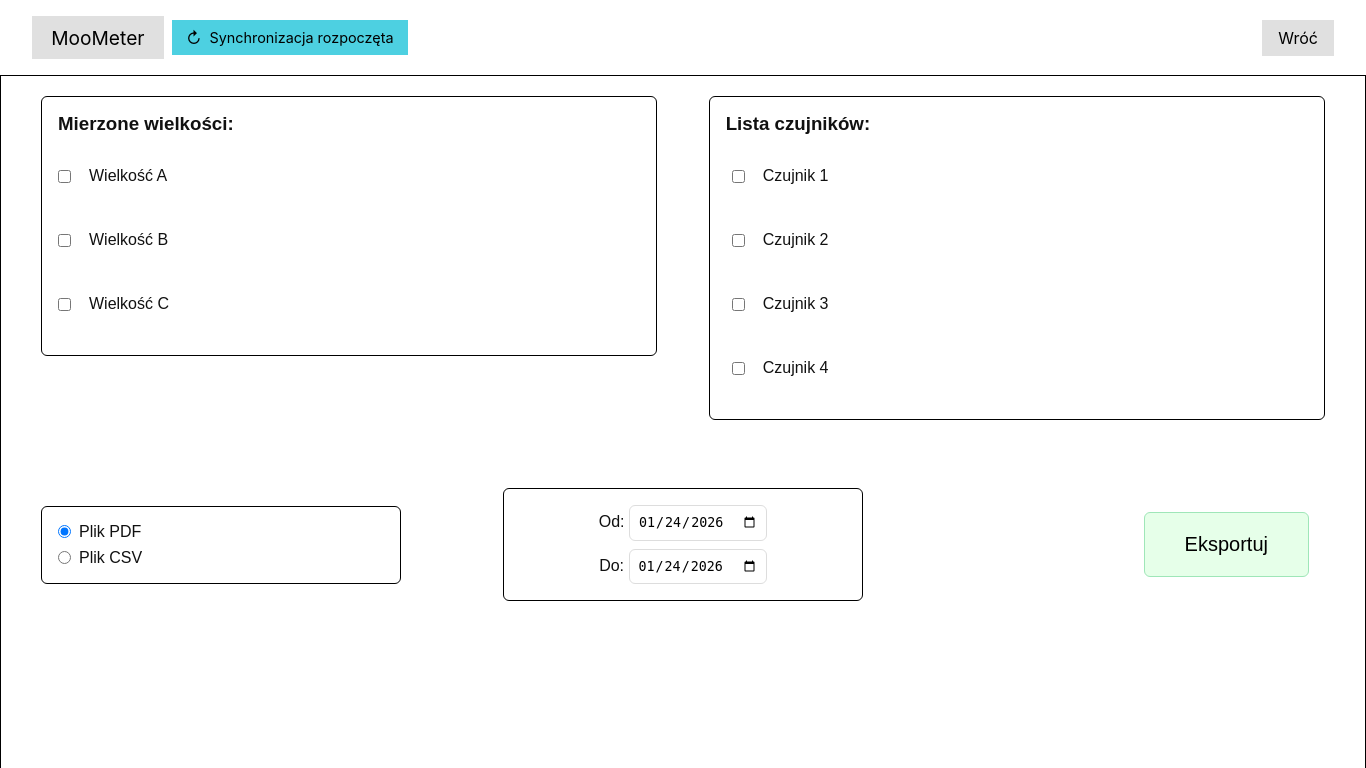
Scenario: ExportPanel – UI and validation display › powinien wykonać poprawny eksport przy prawidłowych danych
The width and height of the screenshot is (1366, 768).
wybór parametrów
Click the checkbox labelled "Wielkość A": click(64, 176) x1=58 y1=170 x2=71 y2=183
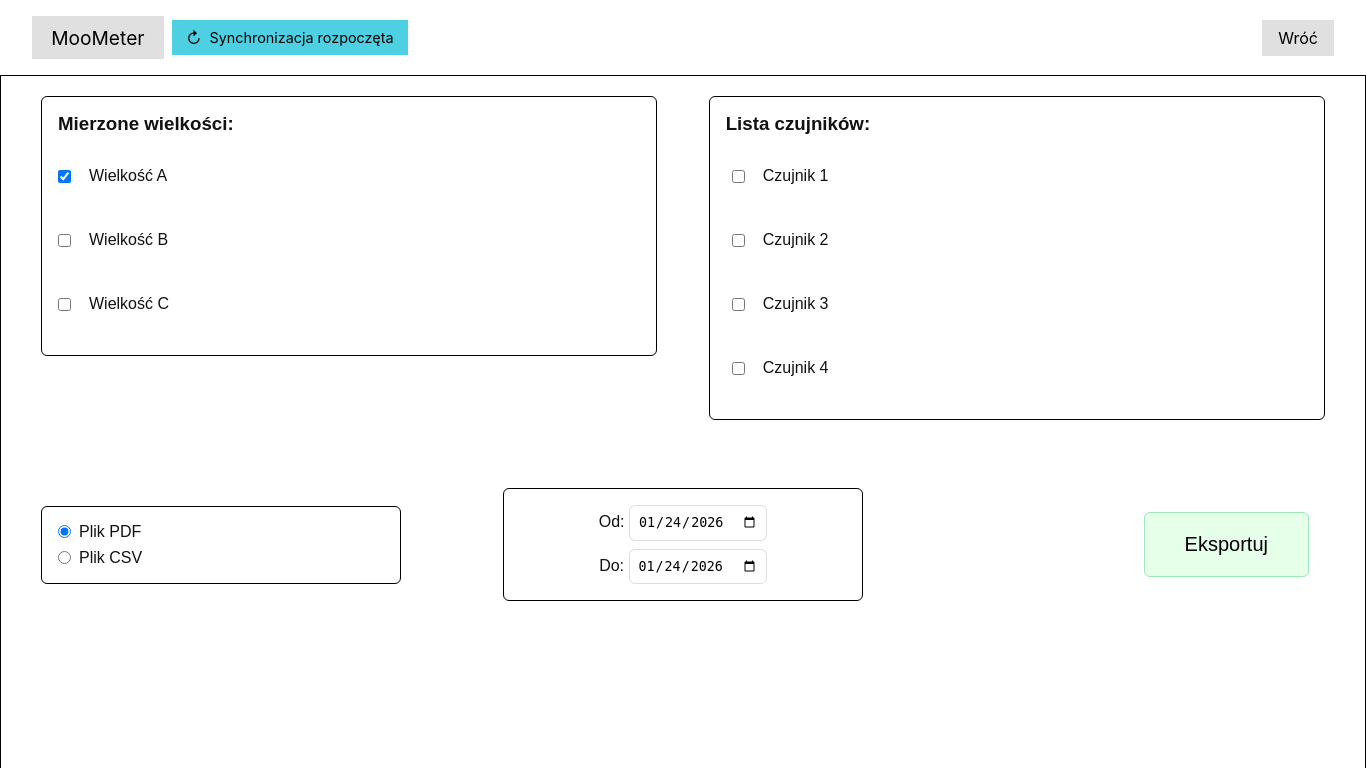
Click the checkbox labelled "Czujnik 1": click(738, 176) x1=732 y1=170 x2=745 y2=183
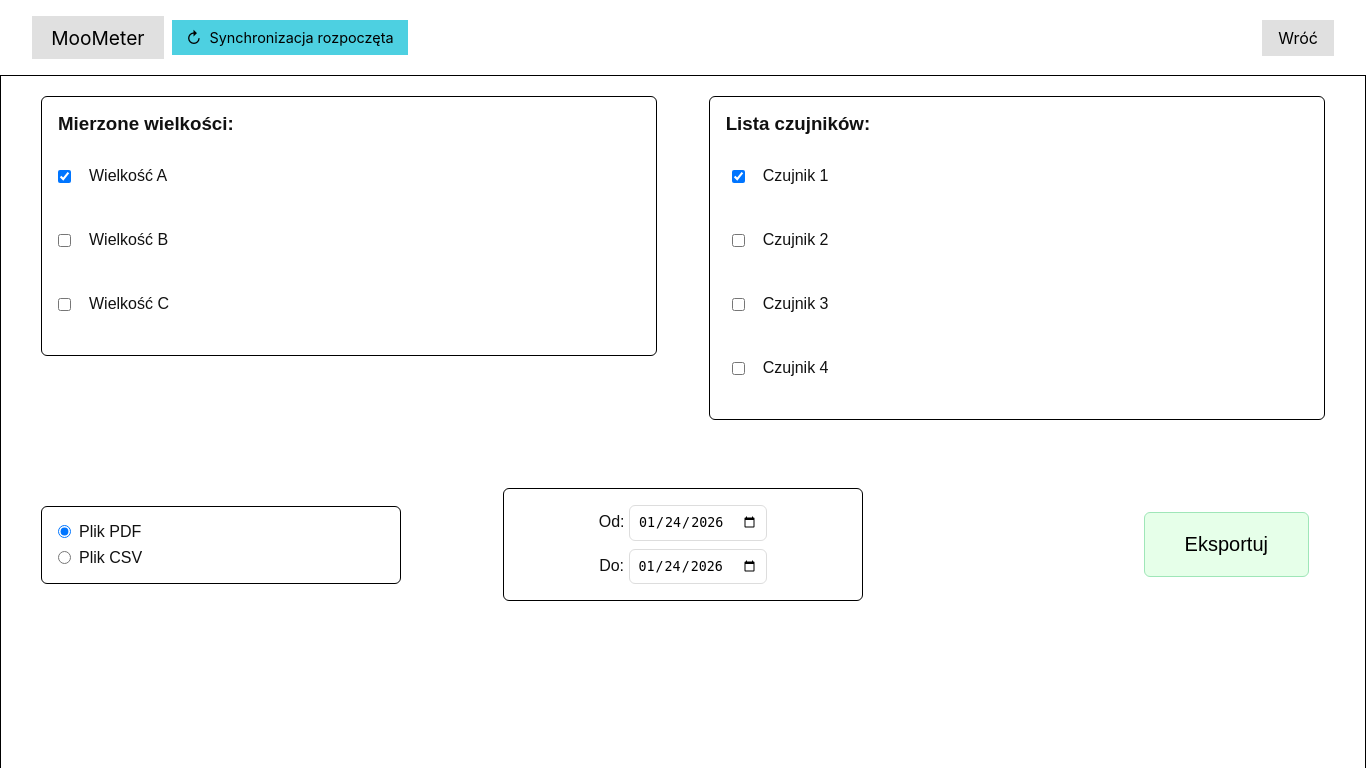
Click the button "Eksportuj": click(1226, 544) x1=1144 y1=512 x2=1309 y2=577
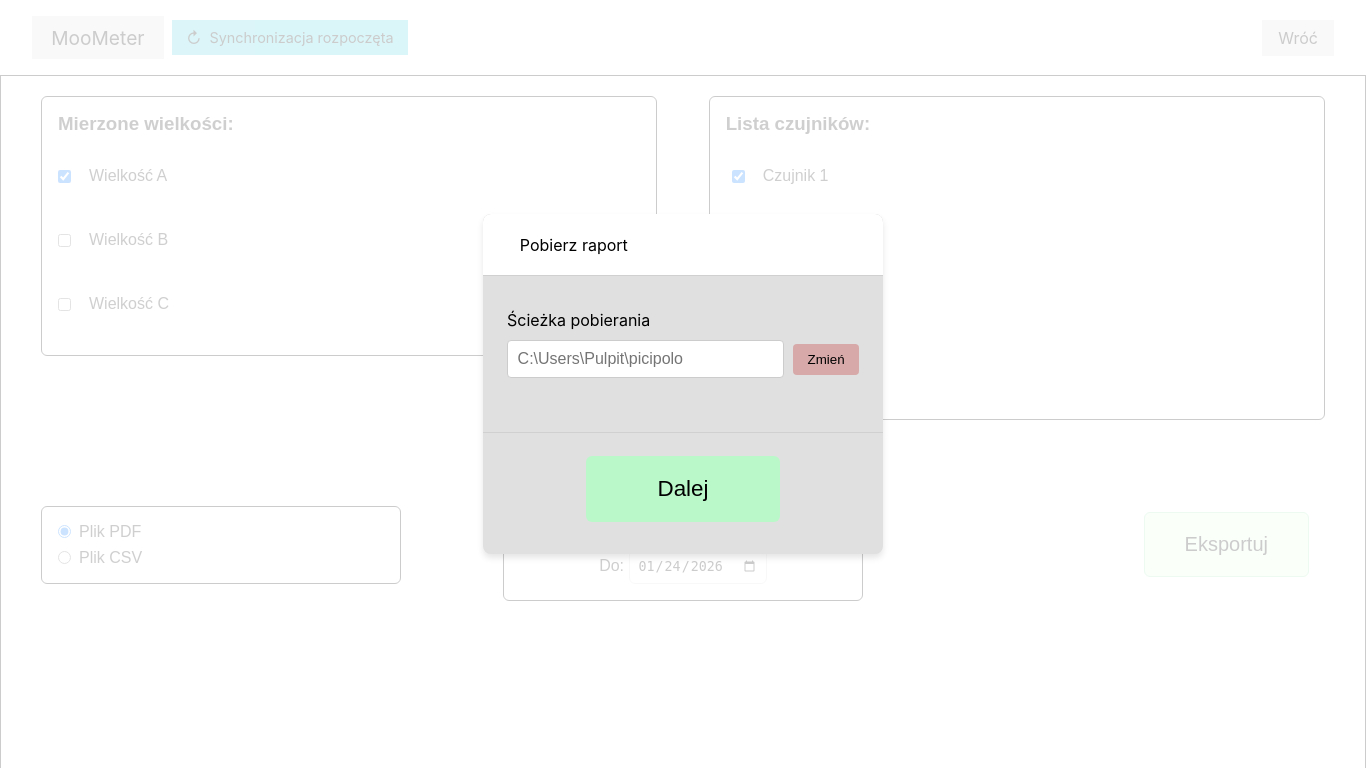
modal wyboru ścieżki
In the field with placeholder "C:\\Users\\Pulpit\\picipolo": (645, 359) x1=507 y1=340 x2=784 y2=378, type "C:\\Test"
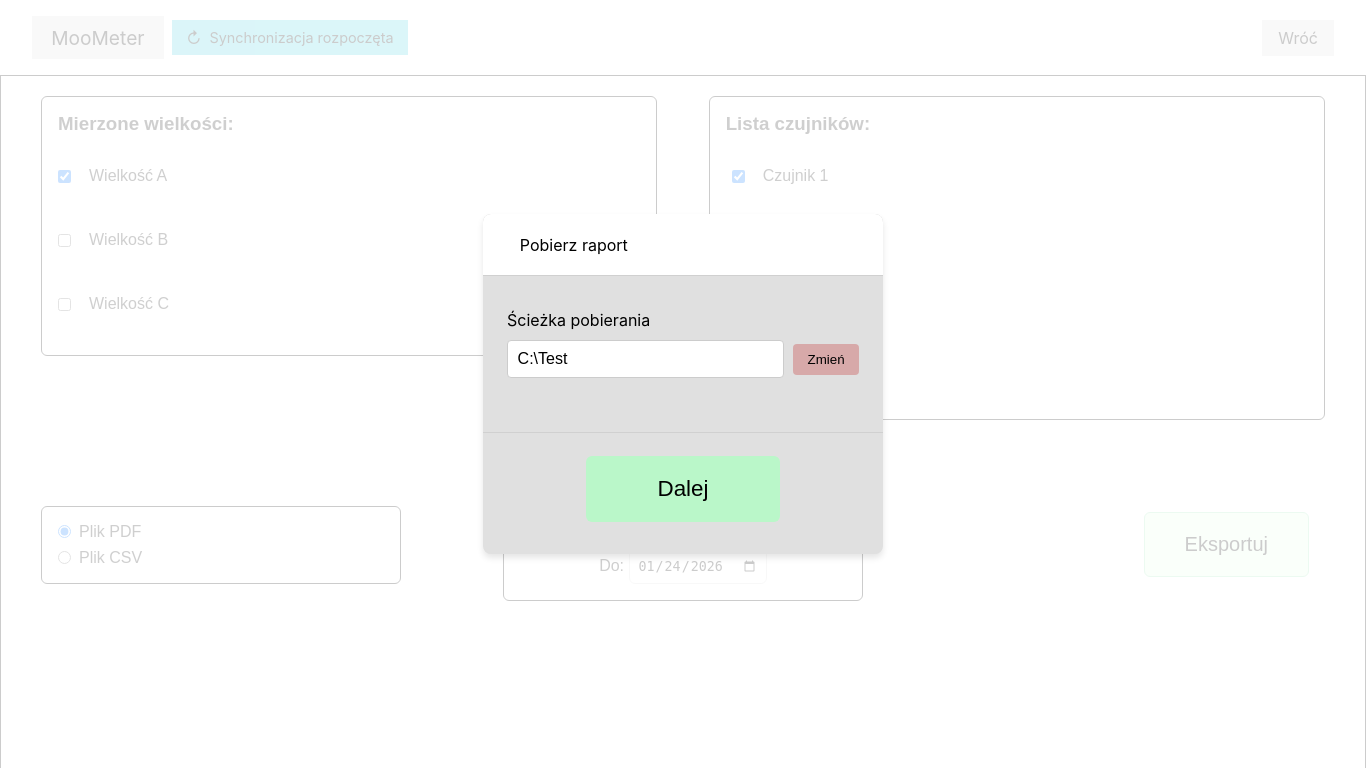
Click the button "Dalej": click(683, 489) x1=586 y1=456 x2=780 y2=522
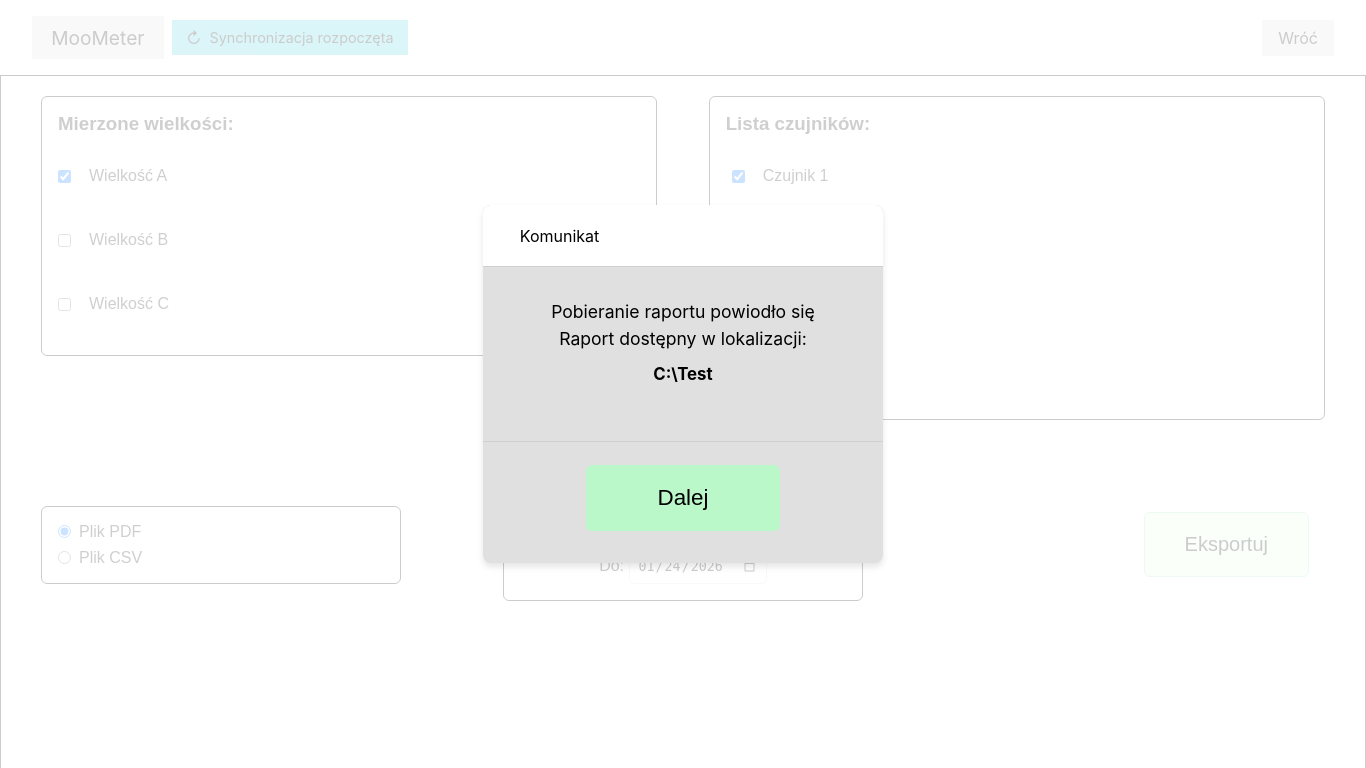
Result: the text "Pobieranie raportu powiodło się" is shown at x1=551 y1=302 x2=815 y2=322
